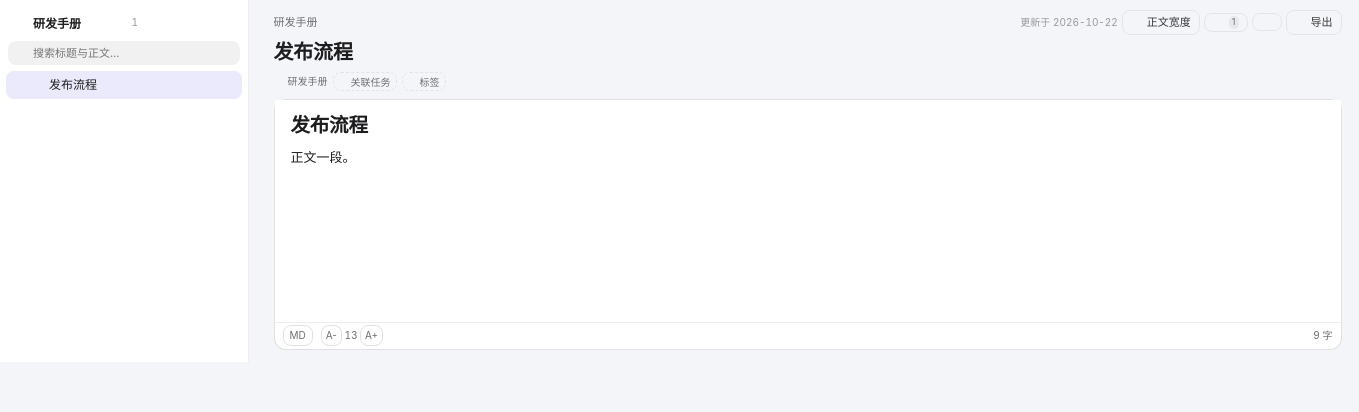
Test case: T72 · 左栏与笔记本切换器 › 展开切换器能看到全部笔记本，选中后菜单收起、文档树跟着换
Click the button with test id "notebook-switcher": (67, 22) [8,10,126,35]
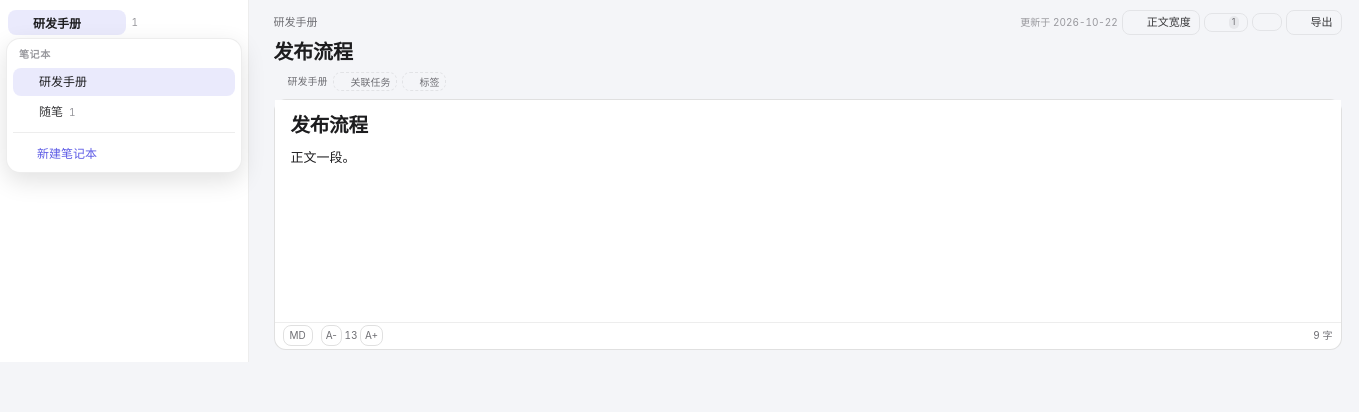
Check: the button with test id "notebook-switcher" is expanded, box [8,10,126,35]
Click the menu item with test id "notebook-row-nb2": (47, 112) [19,104,76,119]
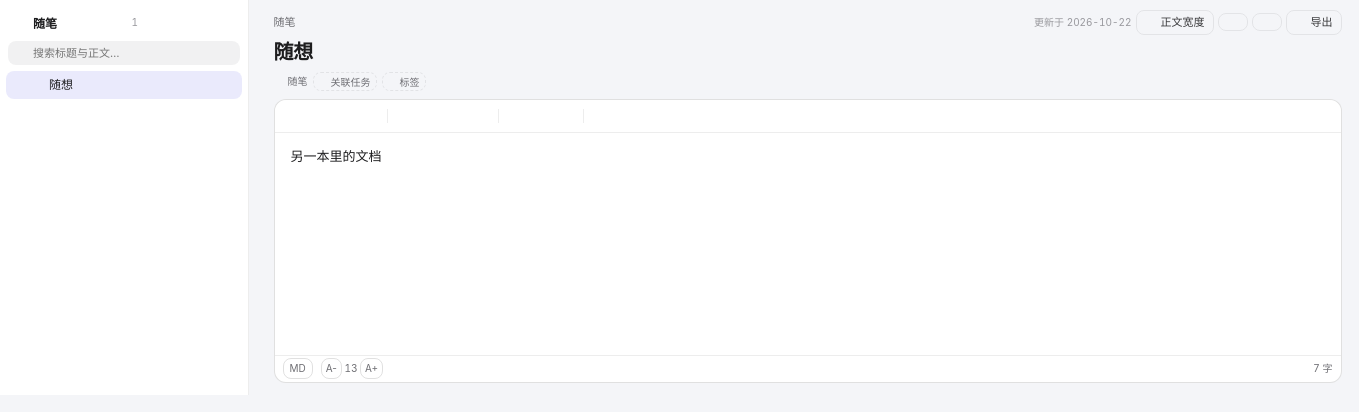
Check: the menu with test id "notebook-switcher-menu" is gone
Check: the list item with test id "doc-row-d2" is shown, box [6,71,242,99]
Check: the list item with test id "doc-row-d1" is gone
